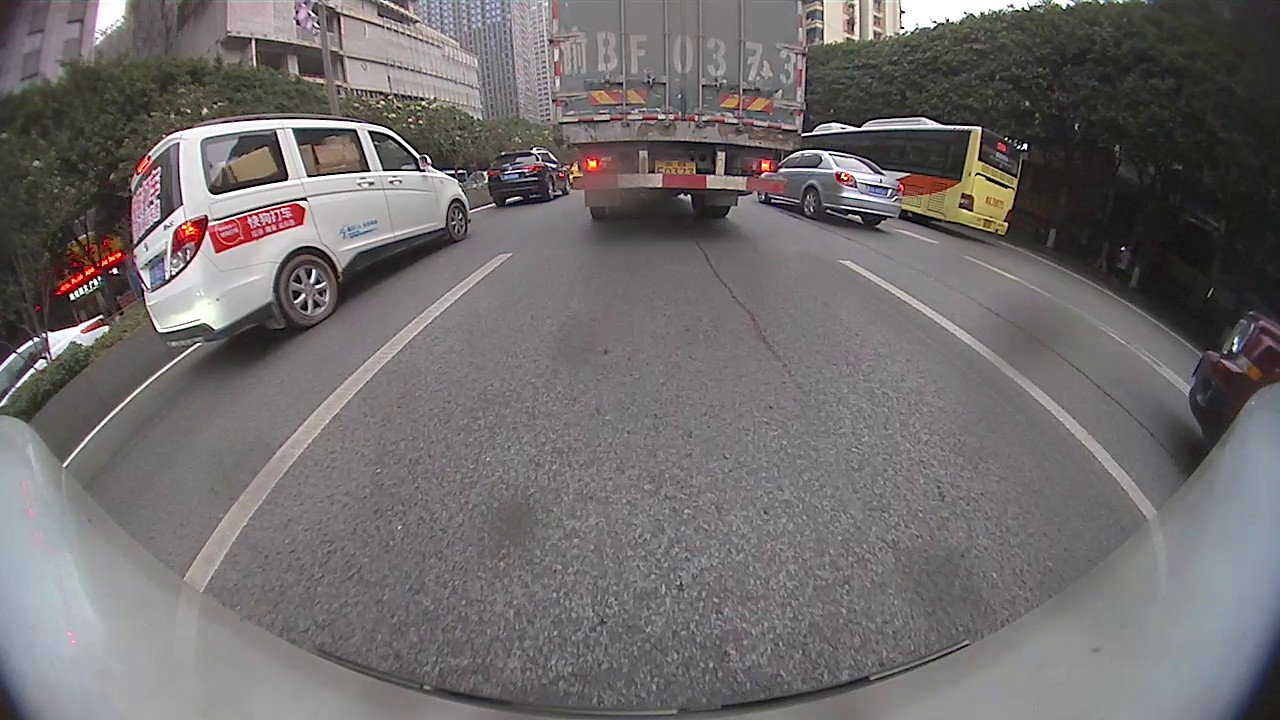bus: (799, 114, 1023, 238)
car: (129, 114, 474, 347), (1188, 309, 1277, 443), (758, 150, 903, 229), (1, 314, 113, 413), (485, 145, 568, 205)
front: (446, 200, 470, 242)
rear: (275, 252, 342, 331), (801, 191, 824, 221)
truck: (550, 0, 807, 221)
